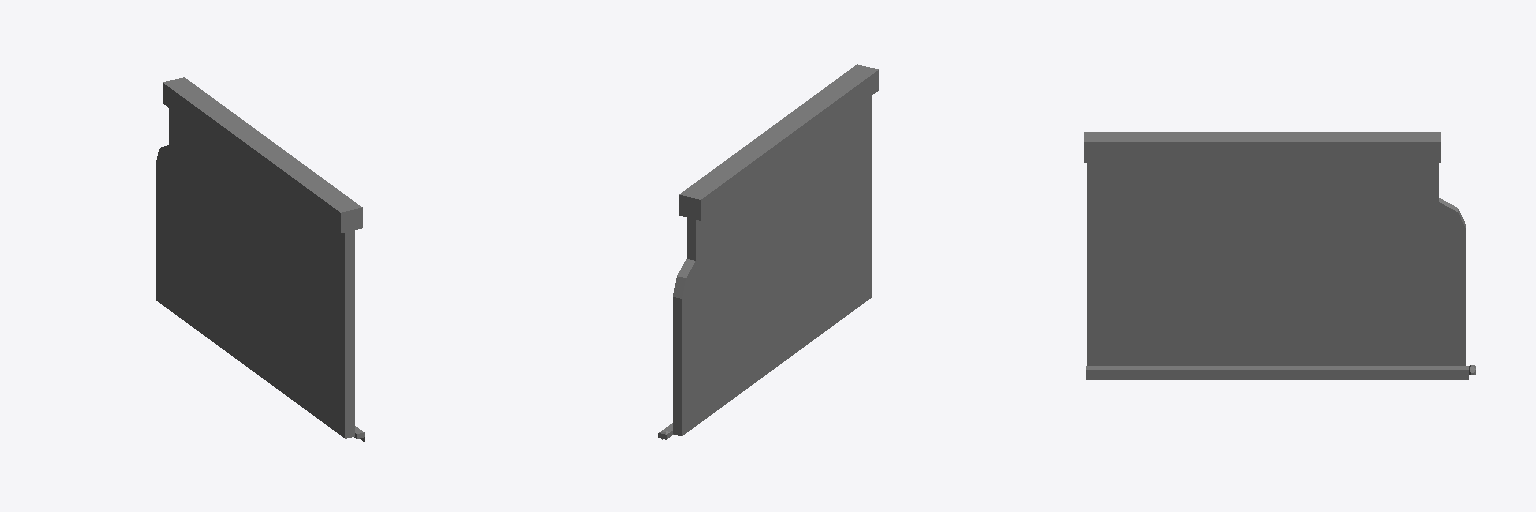
File: Puerta1.obj
3 views of the same model, side by side, from view 1: azimuth 30°, elevation 25°; view 2: azimuth 150°, elevation 25°; view 3: azimuth 270°, elevation 25° (orthographic).
Visible parts, largest first — view 1: Cube.000_Cube.002; view 2: Cube.000_Cube.002; view 3: Cube.000_Cube.002.
Part boxes in pixels (x1,y1,x2,y2): Cube.000_Cube.002: (156, 77, 364, 441); Cube.000_Cube.002: (658, 64, 878, 439); Cube.000_Cube.002: (1084, 132, 1475, 379).
Size of the model in its own units: 0.02 by 0.172 by 0.2585.